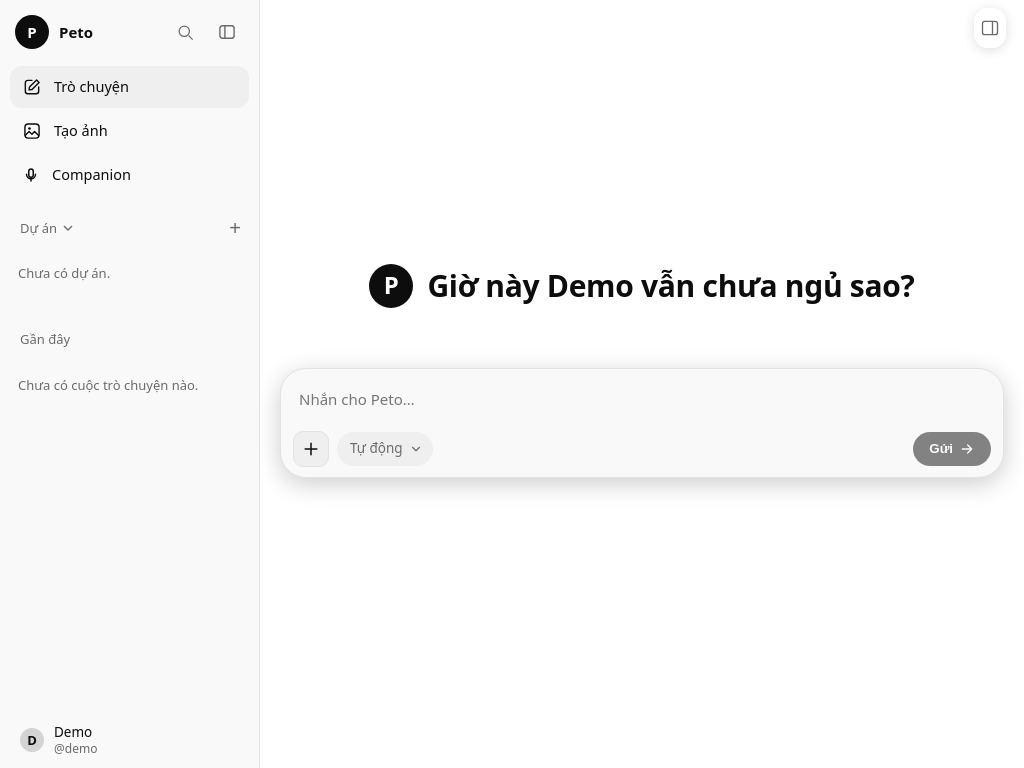
Scenario: phiên trình duyệt tự mở lại sau câu dở vẫn nhận được lần nói chen tiếp theo
Click the button "Companion" at (130, 175), box [10,154,249,196]
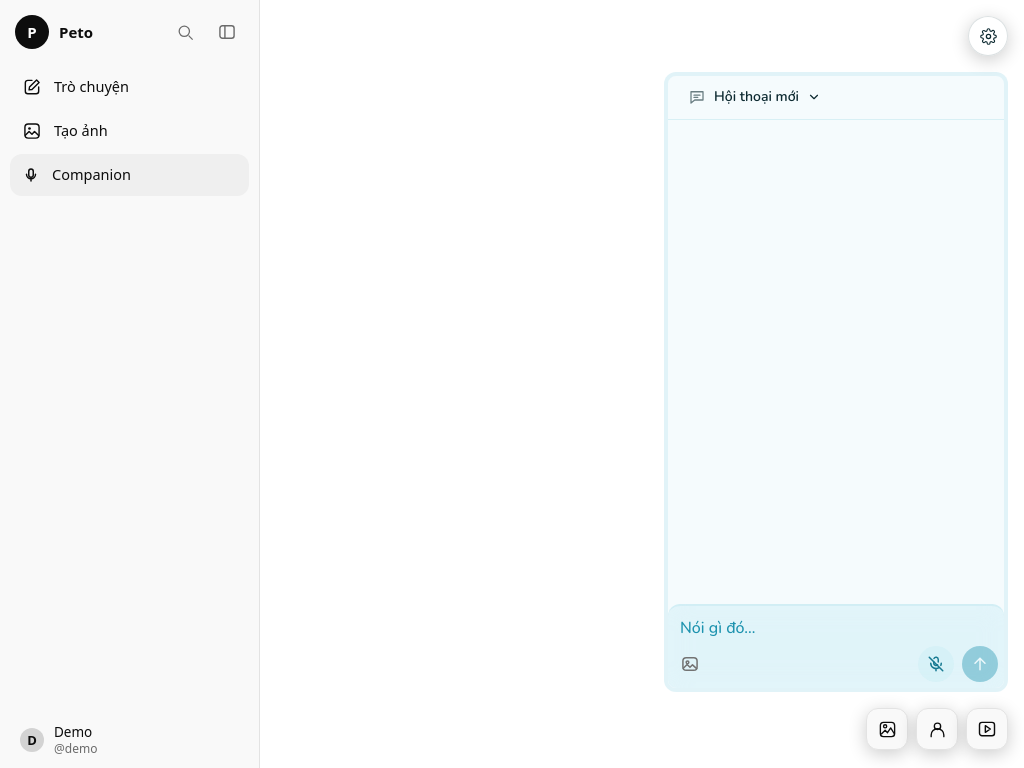
Expected: the text box named "Nhắn cho Peto trong Companion" is shown, [668,606,1004,688]
Click the button named "Bật nghe" at (936, 664), box [918,646,954,682]
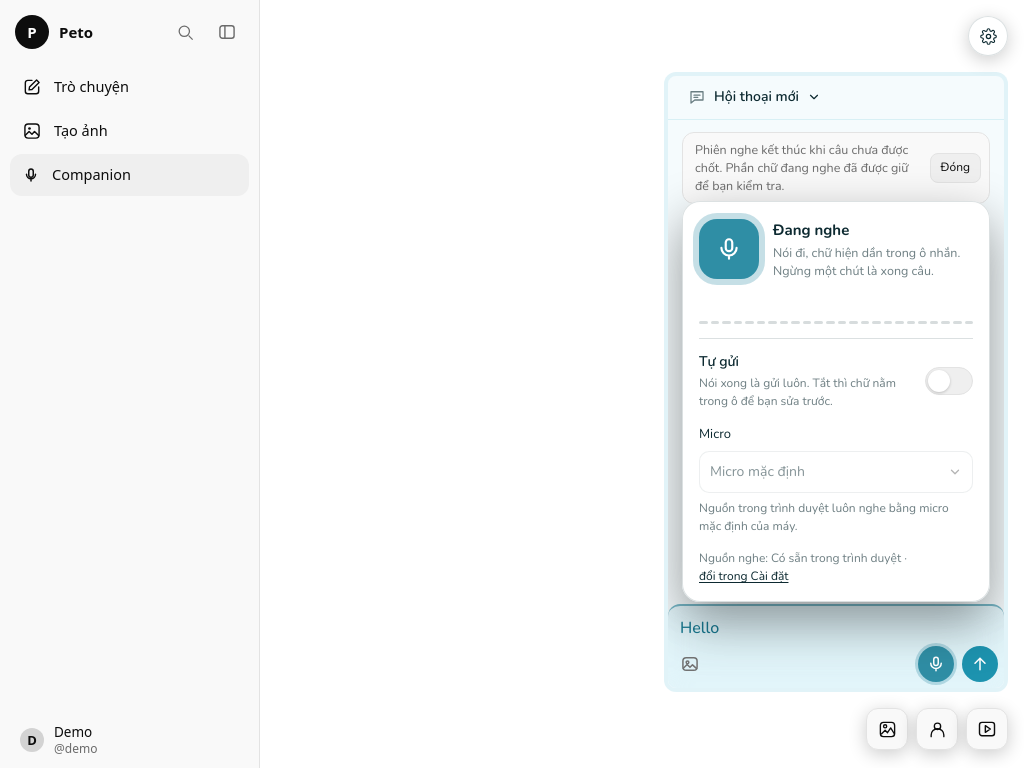
Expected: the text box named "Nhắn cho Peto trong Companion" holds "Hello", [668,606,1004,688]
Click the button named "Gửi" at (980, 664), box [962,646,998,682]
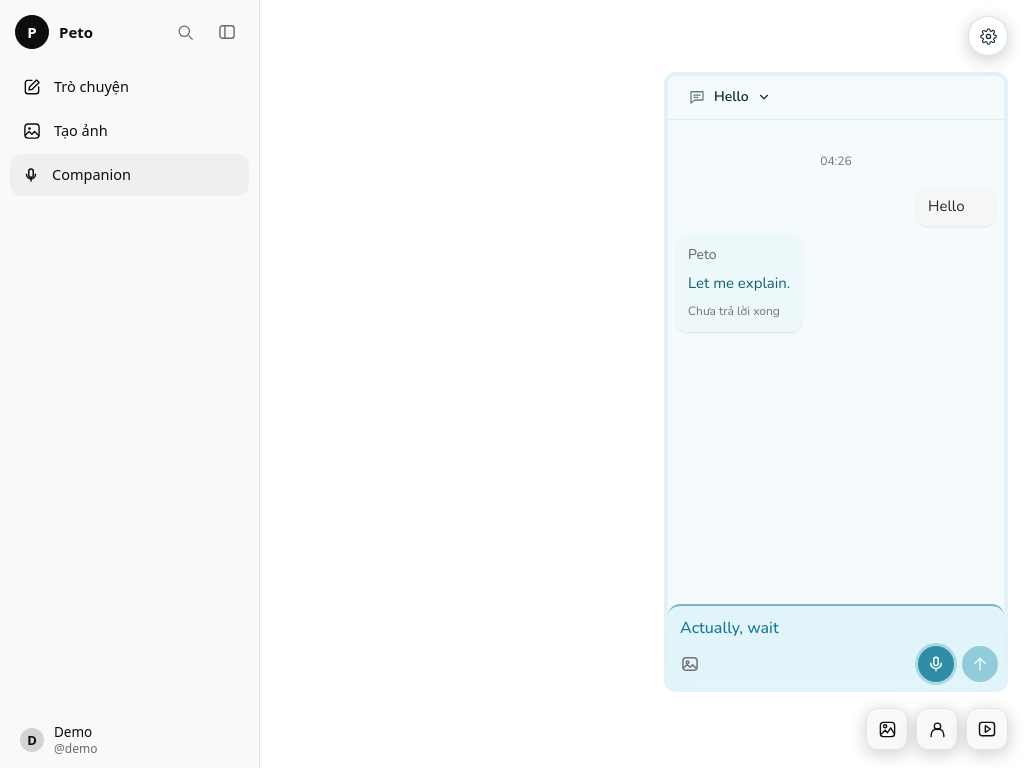
Expected: the text box named "Nhắn cho Peto trong Companion" holds "Actually, wait", [668,606,1004,688]
